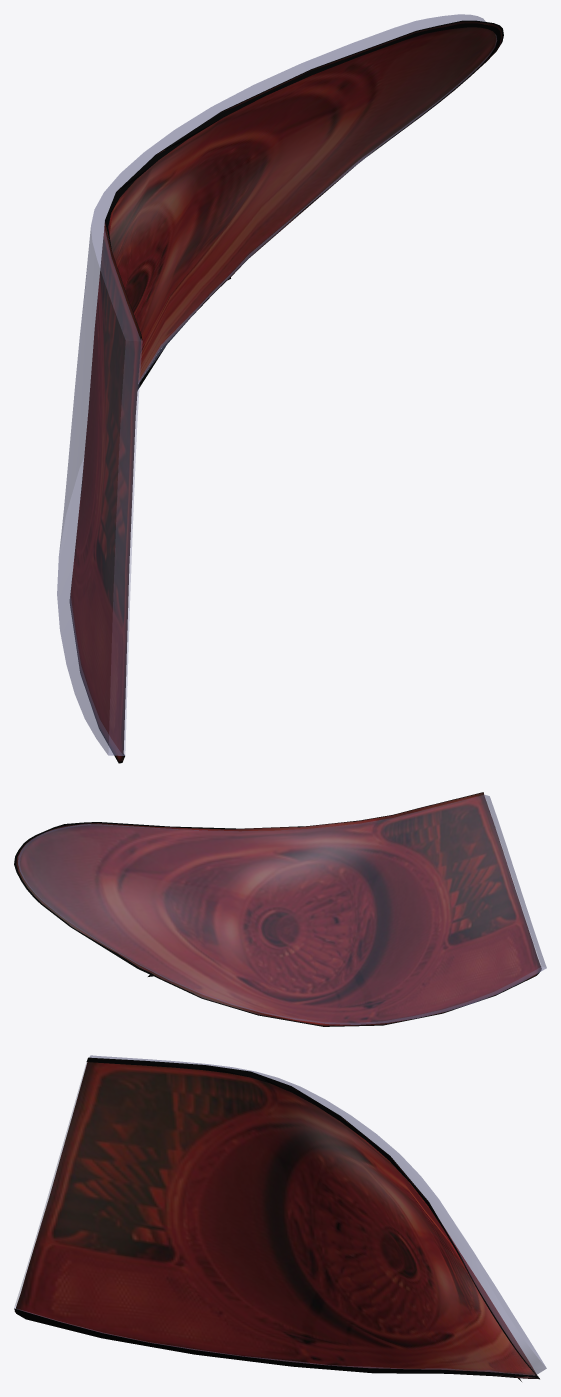
The picture shows the model from 3 angles, top to bottom: view 1: azimuth 30°, elevation 25°; view 2: azimuth 150°, elevation 25°; view 3: azimuth 270°, elevation 25°; orthographic projection. The views are drawn at different scales.
Visible parts, largest first — view 1: E233_541C_L_E233_541C_L_2_N, E233_541C_L_1_DTaSI_E233_541C_L, E233_541C_L_E233_541C_L_3_D; view 2: E233_541C_L_E233_541C_L_2_N, E233_541C_L_1_DTaSI_E233_541C_L, E233_541C_L_E233_541C_L_3_D; view 3: E233_541C_L_E233_541C_L_2_N, E233_541C_L_1_DTaSI_E233_541C_L, E233_541C_L_E233_541C_L_3_D.
Boxes of the visible parts, left/top/right/bottom form: E233_541C_L_E233_541C_L_2_N: left=70, top=21, right=502, bottom=761; E233_541C_L_1_DTaSI_E233_541C_L: left=57, top=14, right=496, bottom=755; E233_541C_L_E233_541C_L_3_D: left=70, top=20, right=503, bottom=763; E233_541C_L_E233_541C_L_2_N: left=16, top=792, right=541, bottom=1026; E233_541C_L_1_DTaSI_E233_541C_L: left=18, top=794, right=546, bottom=1024; E233_541C_L_E233_541C_L_3_D: left=14, top=792, right=540, bottom=1026; E233_541C_L_E233_541C_L_2_N: left=14, top=1058, right=537, bottom=1378; E233_541C_L_1_DTaSI_E233_541C_L: left=14, top=1055, right=546, bottom=1375; E233_541C_L_E233_541C_L_3_D: left=14, top=1057, right=539, bottom=1381.
Bounding box in the file's own units: 38.77 × 20.84 × 32.93.
